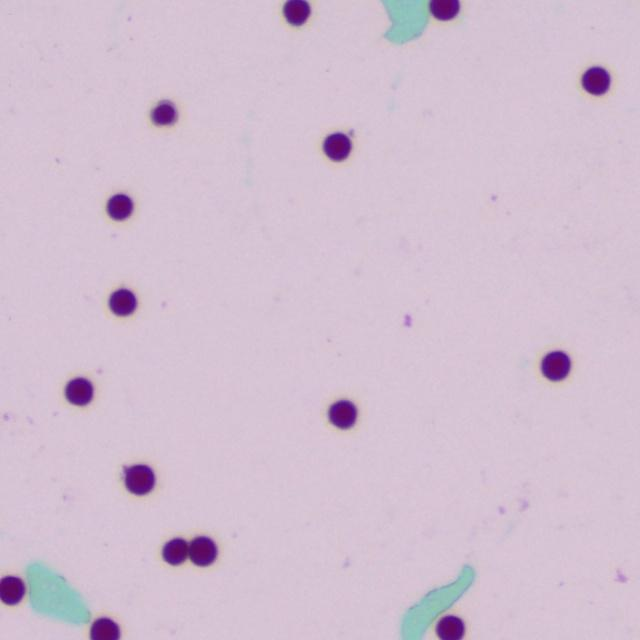viable: (124, 464, 154, 495), (188, 535, 217, 566), (541, 351, 570, 380), (582, 66, 610, 95), (329, 400, 357, 428), (323, 132, 351, 160), (109, 288, 136, 315), (65, 378, 92, 405), (162, 537, 188, 565), (106, 193, 132, 219), (283, 0, 310, 25), (0, 576, 24, 604), (436, 615, 464, 639), (90, 617, 119, 639), (151, 101, 176, 125), (430, 0, 459, 19)
